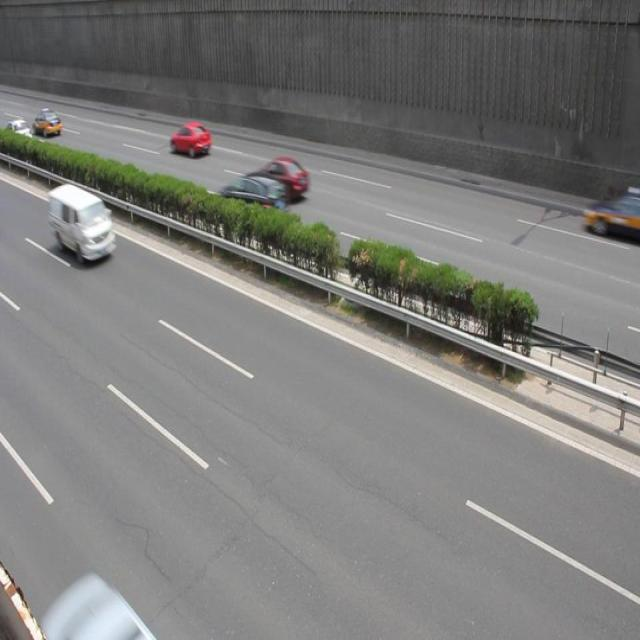car: (218, 171, 288, 228), (582, 193, 640, 242), (254, 156, 309, 202), (170, 122, 211, 157), (33, 108, 62, 140)
truck: (50, 182, 115, 266)
